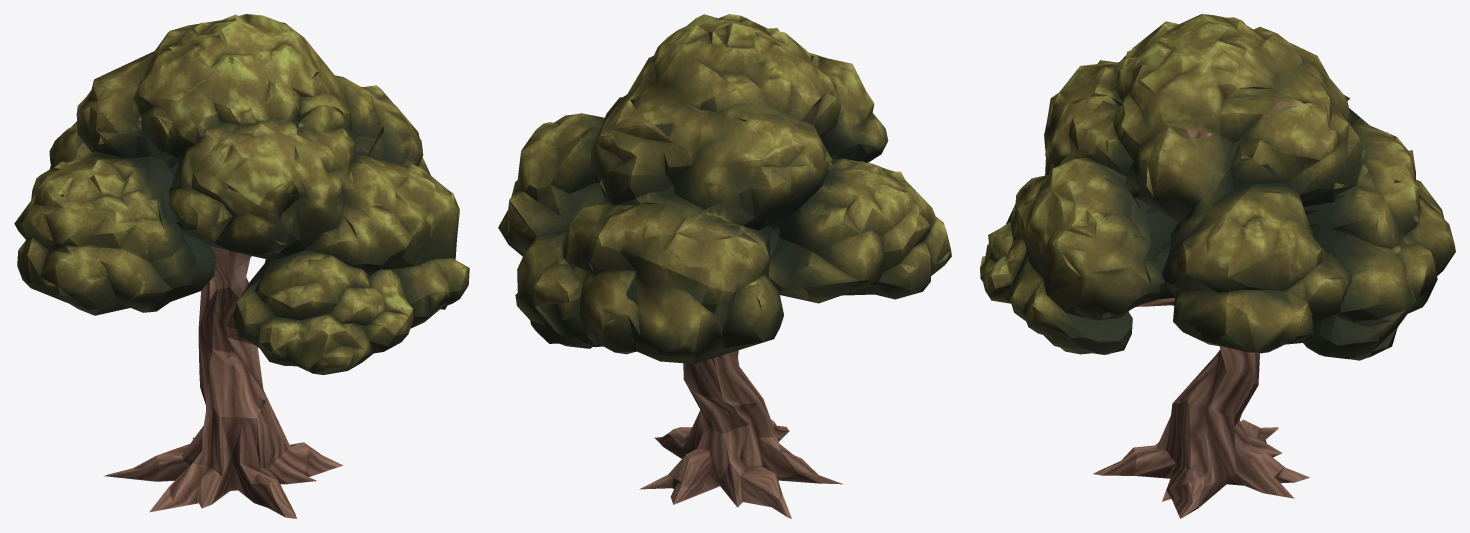
The model's file is tree_oak_autumn.glb.
The picture shows the model from 3 angles, left to right: view 1: azimuth 30°, elevation 25°; view 2: azimuth 150°, elevation 25°; view 3: azimuth 270°, elevation 25°; orthographic projection. The views are drawn at different scales.
Size of the model in its own units: 1.78 by 1.89 by 1.8.
Materials: 1 (1 with a texture image).
